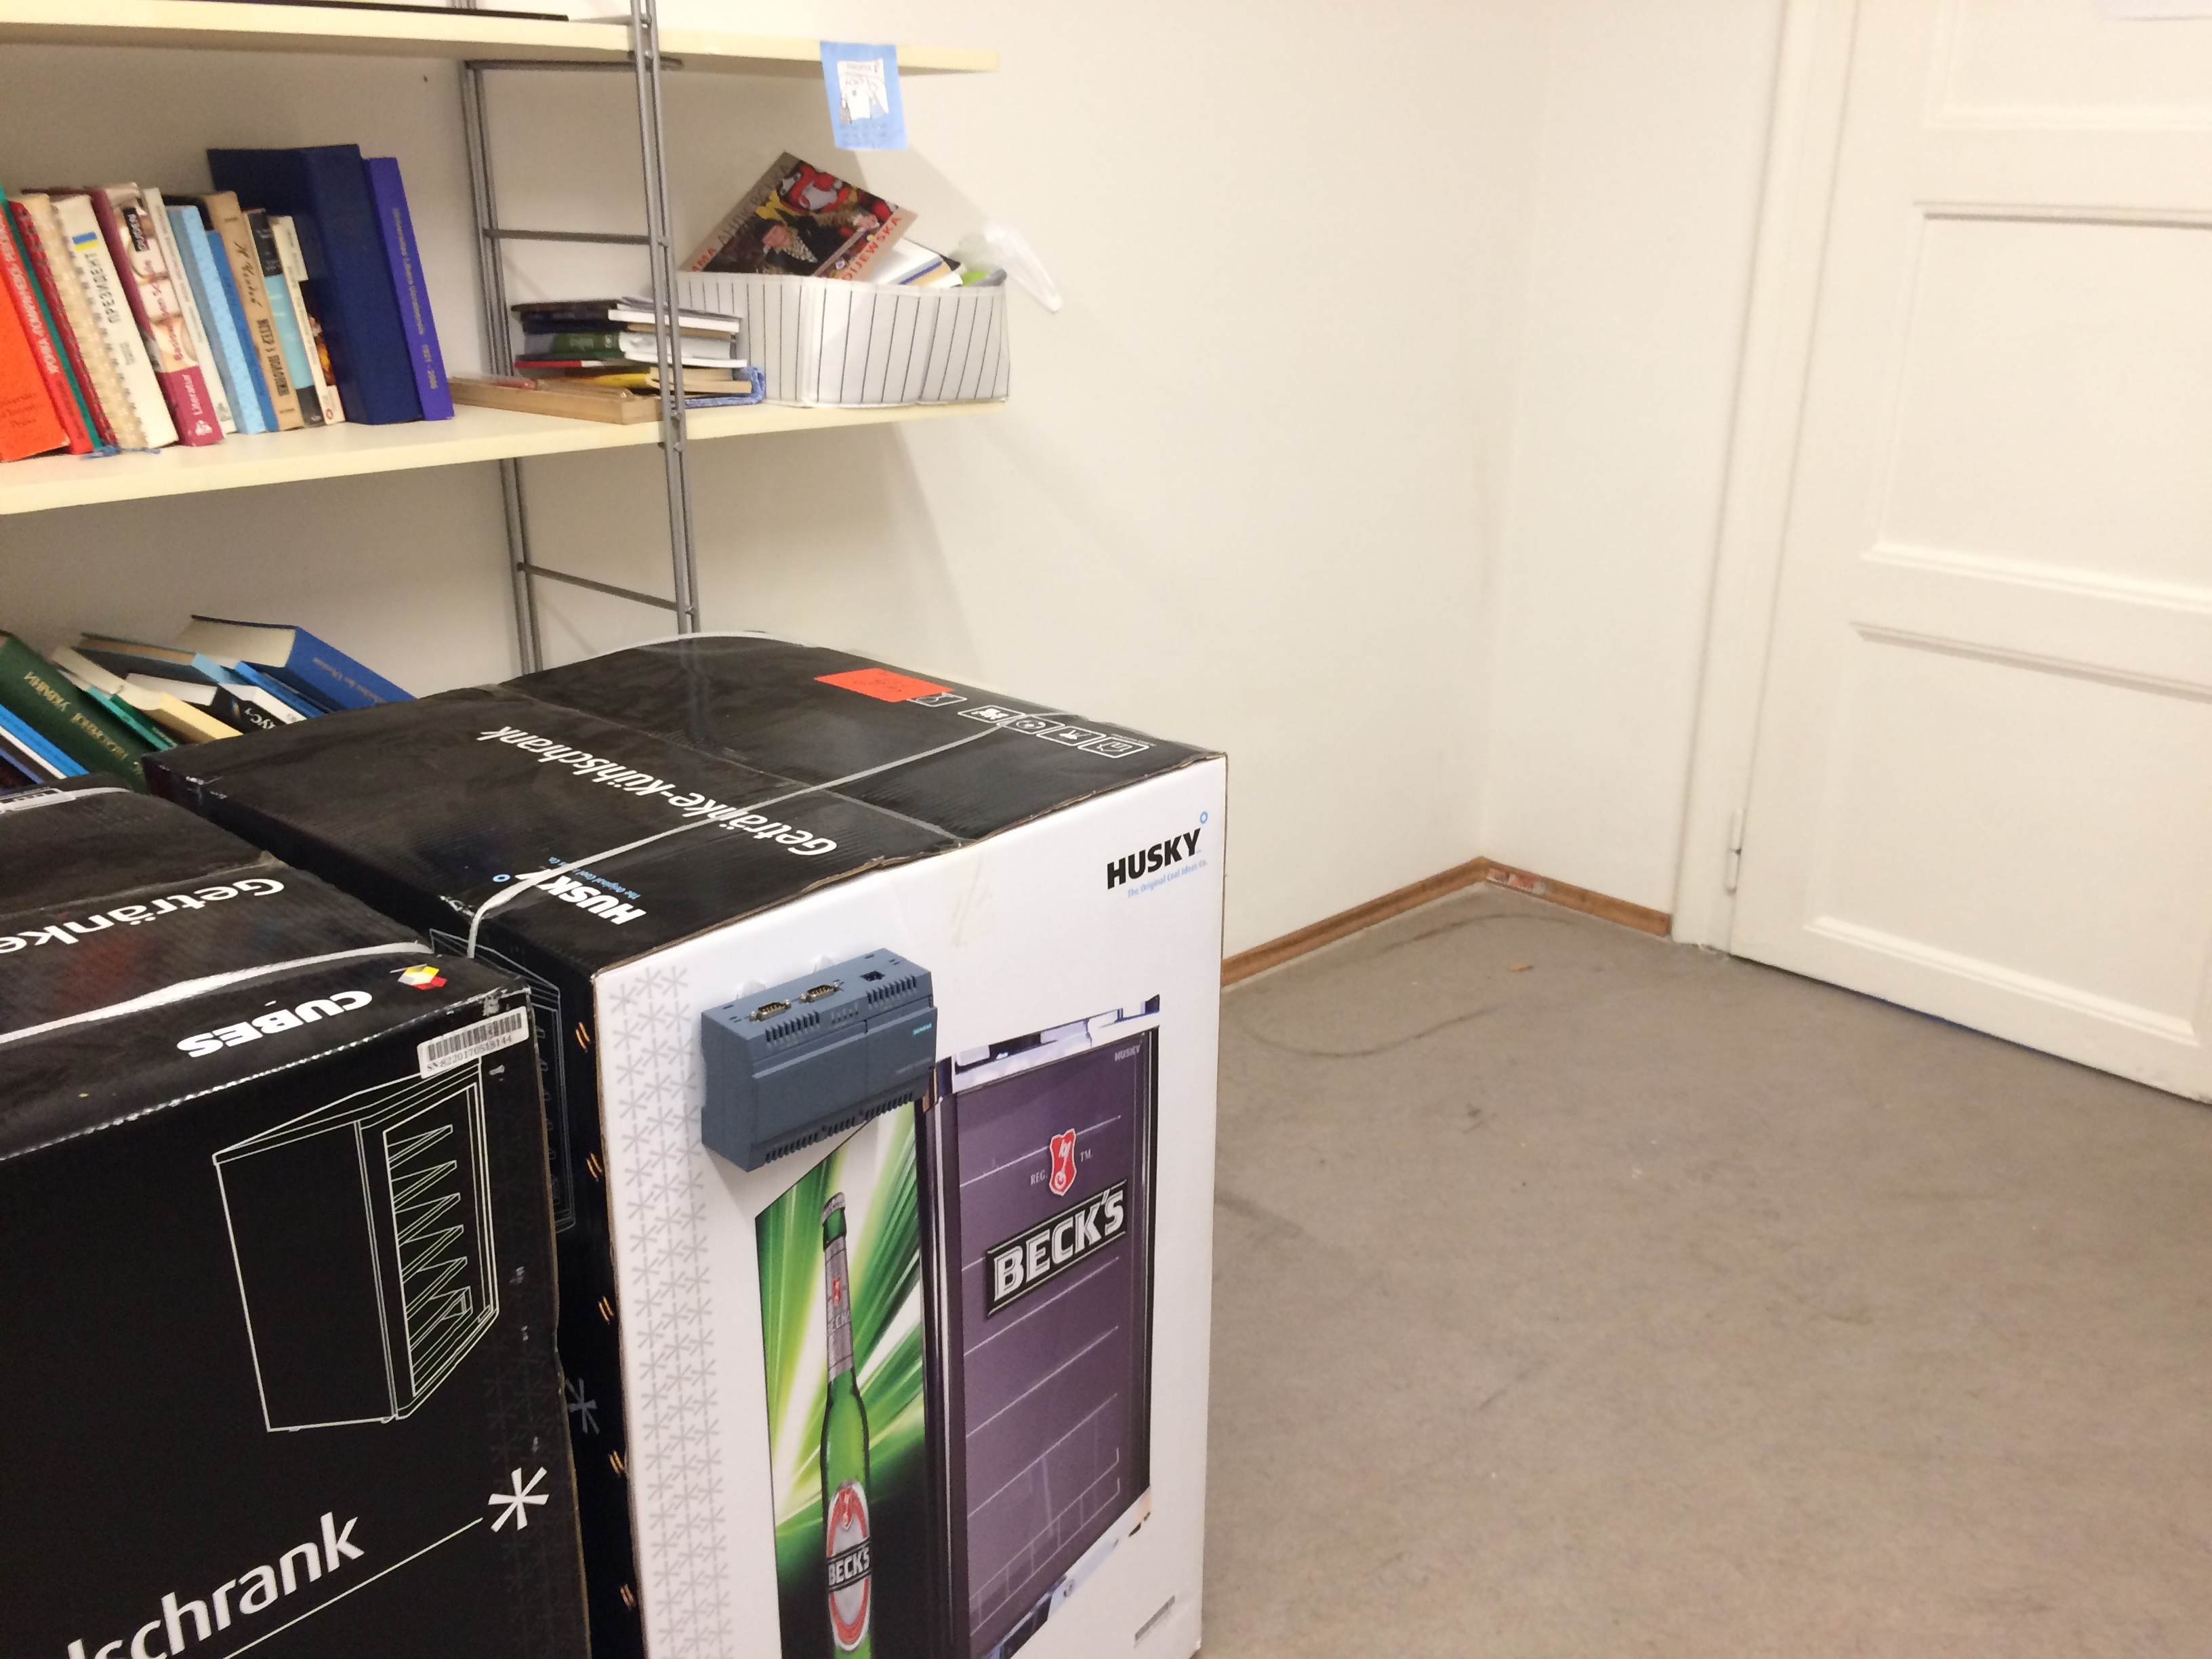iot2000: (697, 945, 941, 1176)
